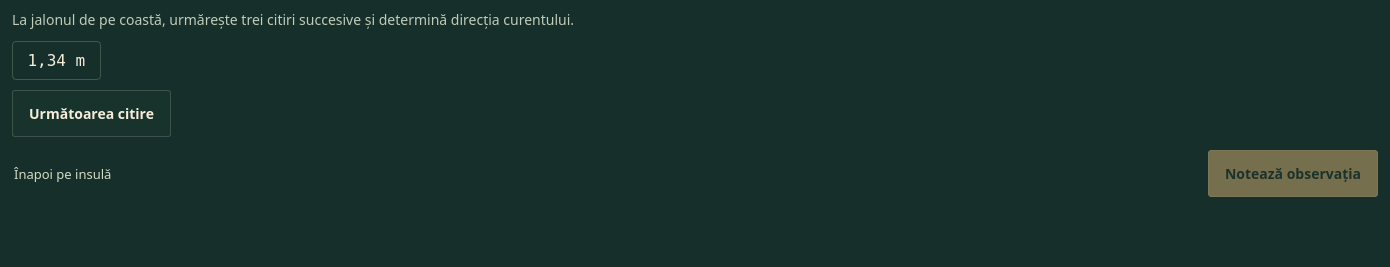
Scenario: optional tide gauge can be read fully through Romanian interface controls
This screenshot has width=1390, height=267.
Later steps or results of the test are not shown.
Click the button "Următoarea citire". click: x=92, y=114
box: left=12, top=90, right=171, bottom=137
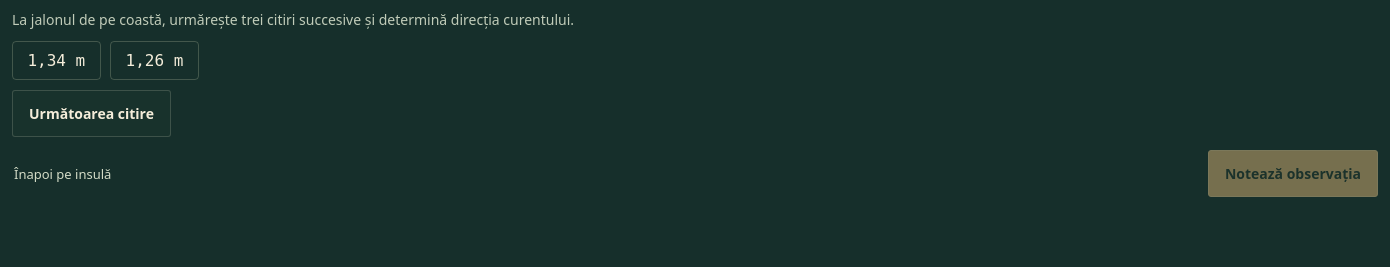
Click the button "Următoarea citire". click: x=92, y=114
box: left=12, top=90, right=171, bottom=137
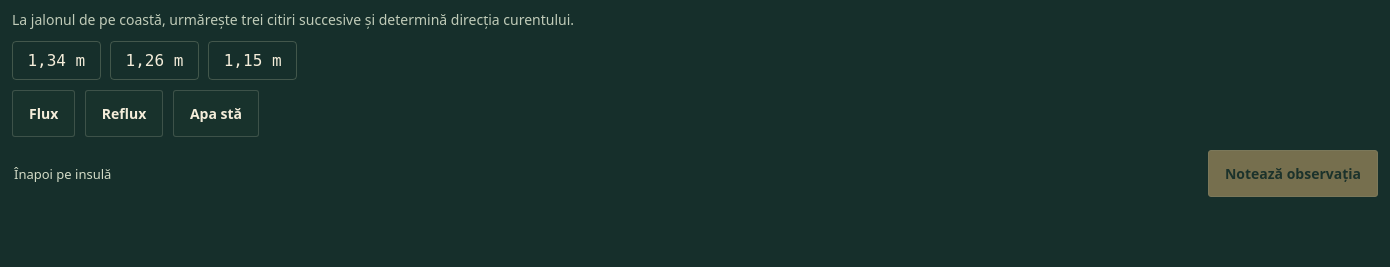
Expected: the button "Flux" is shown
Click the button "Flux". click: x=44, y=114
box: left=12, top=90, right=75, bottom=137
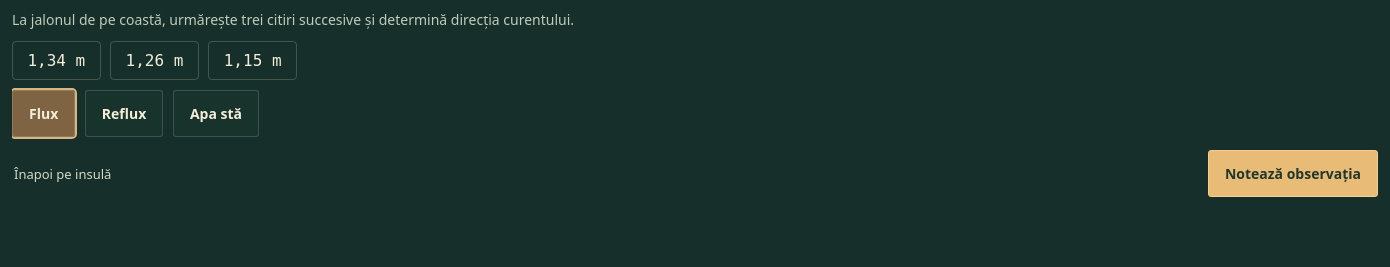
Click the button "Notează observația". click: x=1293, y=174
box: left=1208, top=150, right=1378, bottom=197
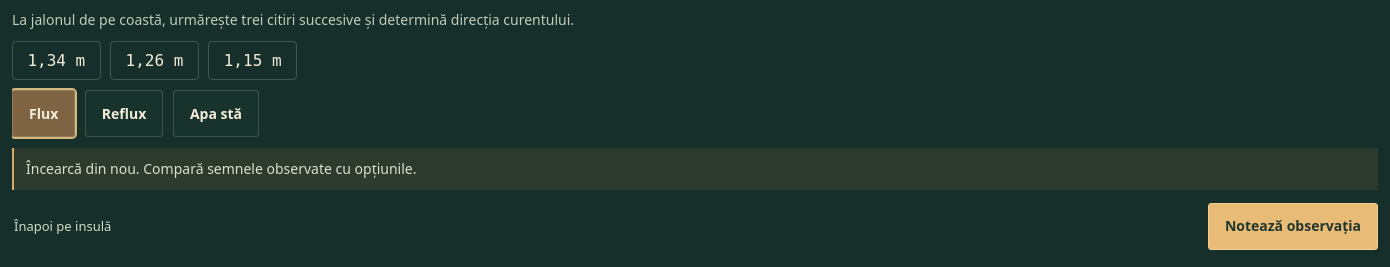
Expected: the button "Reflux" is shown, left=85, top=90, right=163, bottom=137
Expected: the text "Încearcă din nou" is shown, left=26, top=159, right=416, bottom=178
